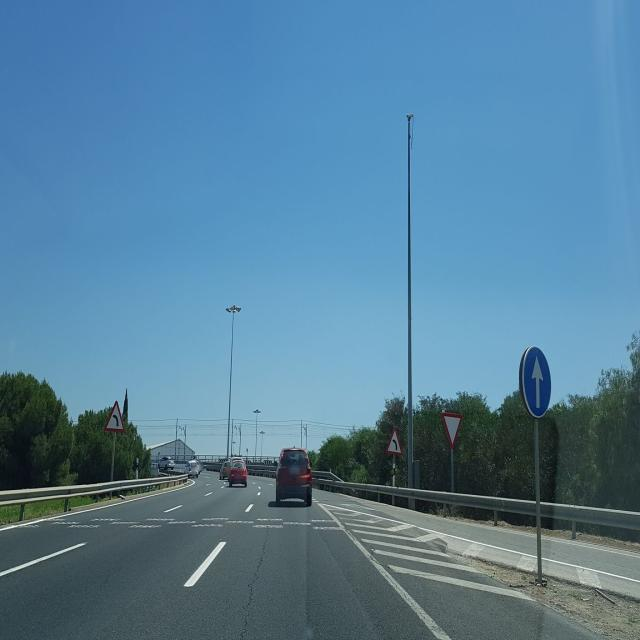car: (275, 446, 313, 506), (228, 457, 248, 487), (312, 470, 337, 490), (219, 460, 231, 479)
